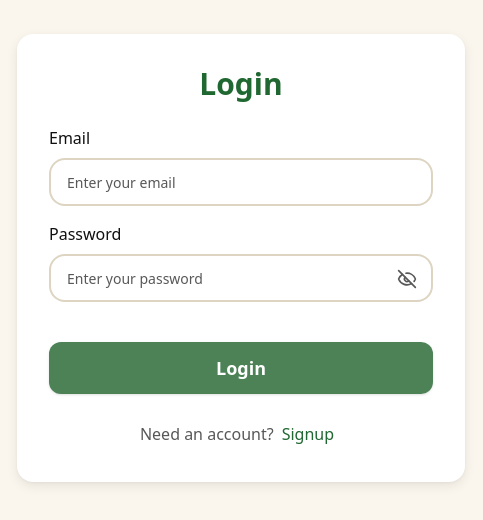
it: shows error message when login fails
The width and height of the screenshot is (483, 520).
In the field labelled "Email": (241, 182) [49,158,433,206], type "test@example.com"
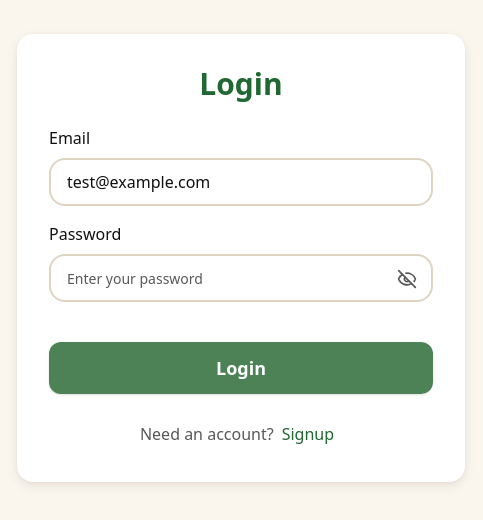
In the password field labelled "Password": (241, 278) [49,254,433,302], type "wrongpassword"
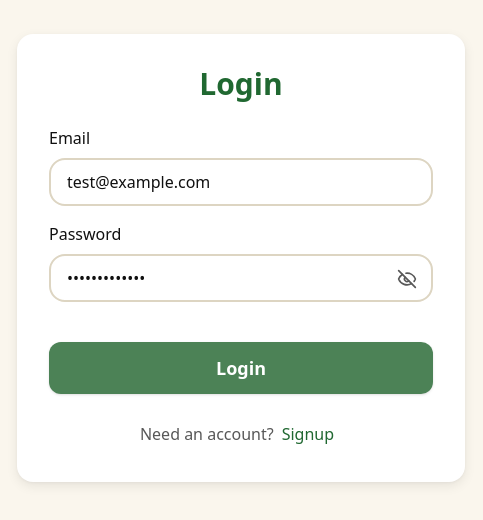
Click the button "Login": (241, 368) [49,342,433,394]
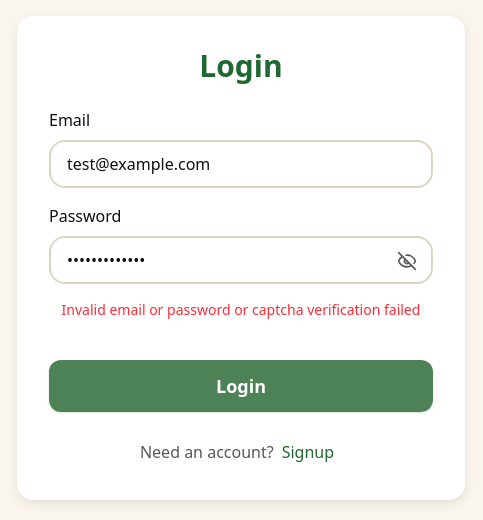
Expected: the text "Invalid email or password or captcha verification failed" is shown, [49,300,433,320]
